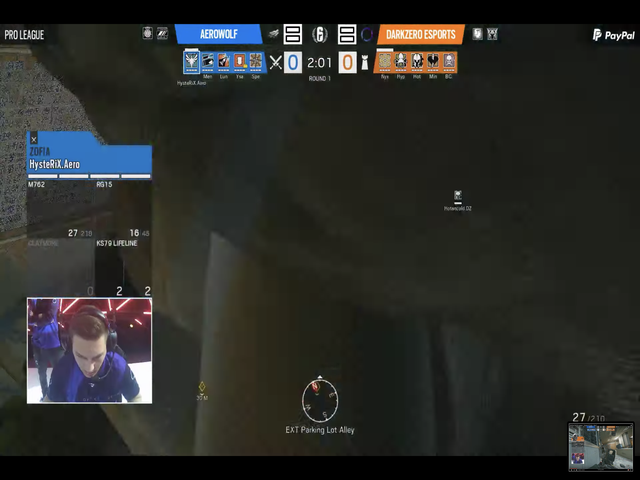0_blue: (283, 51, 301, 74)
